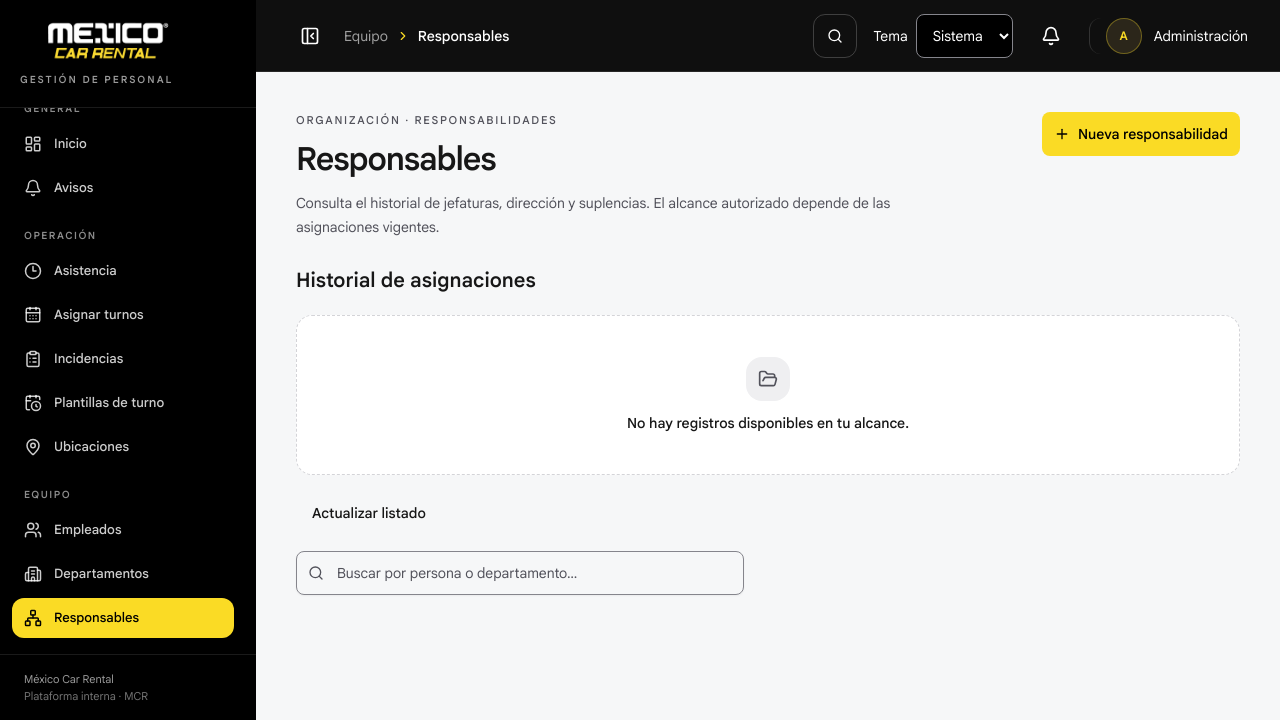
Test: expedientes y responsables › abre la asignación de responsabilidades bajo demanda
(page scrolled)
Expected: the heading "Responsables" is shown, [296,138,496,178]
Expected: the field labelled "Tipo de responsabilidad" is not shown
Click the button "Nueva responsabilidad" at x=1141, y=134, box [1042,112,1240,156]
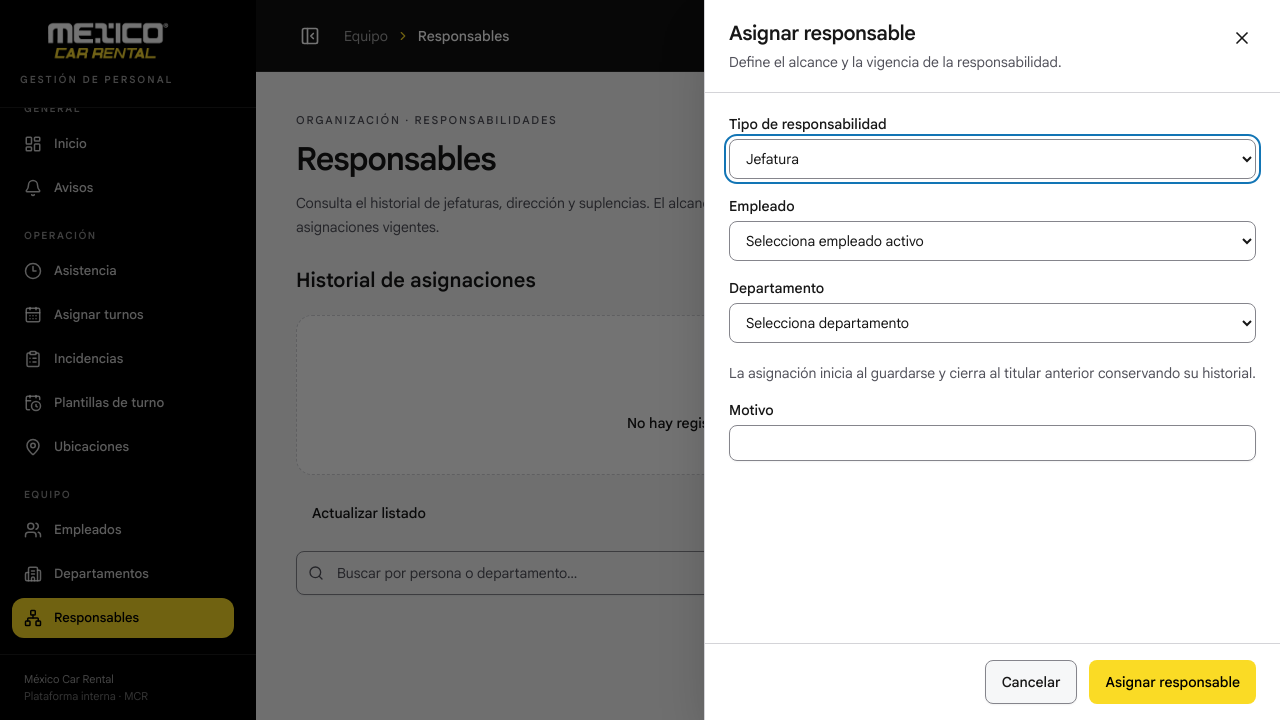
Expected: the dialog "Asignar responsable" is shown, [704,0,1279,719]
